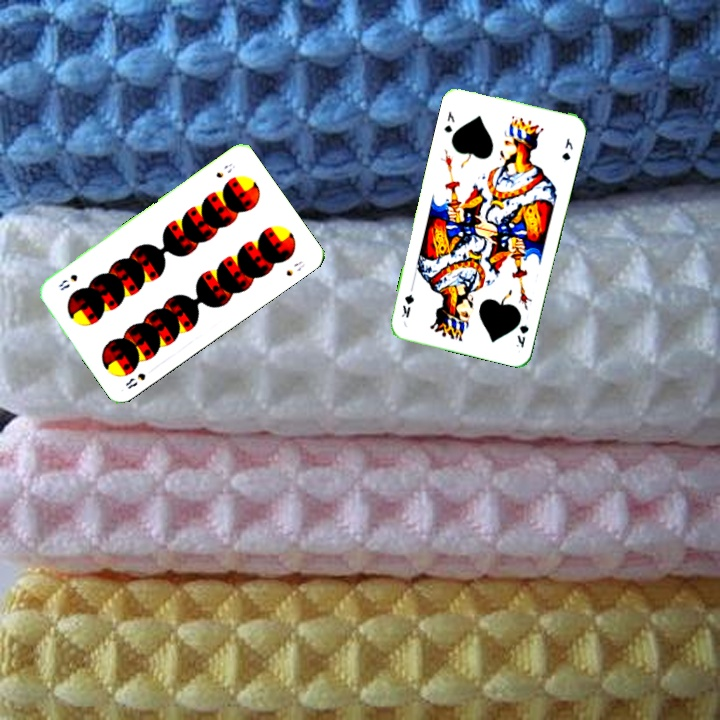GK: (512, 321, 531, 350), (440, 107, 457, 135)
S8: (121, 369, 148, 392), (212, 159, 238, 181)
